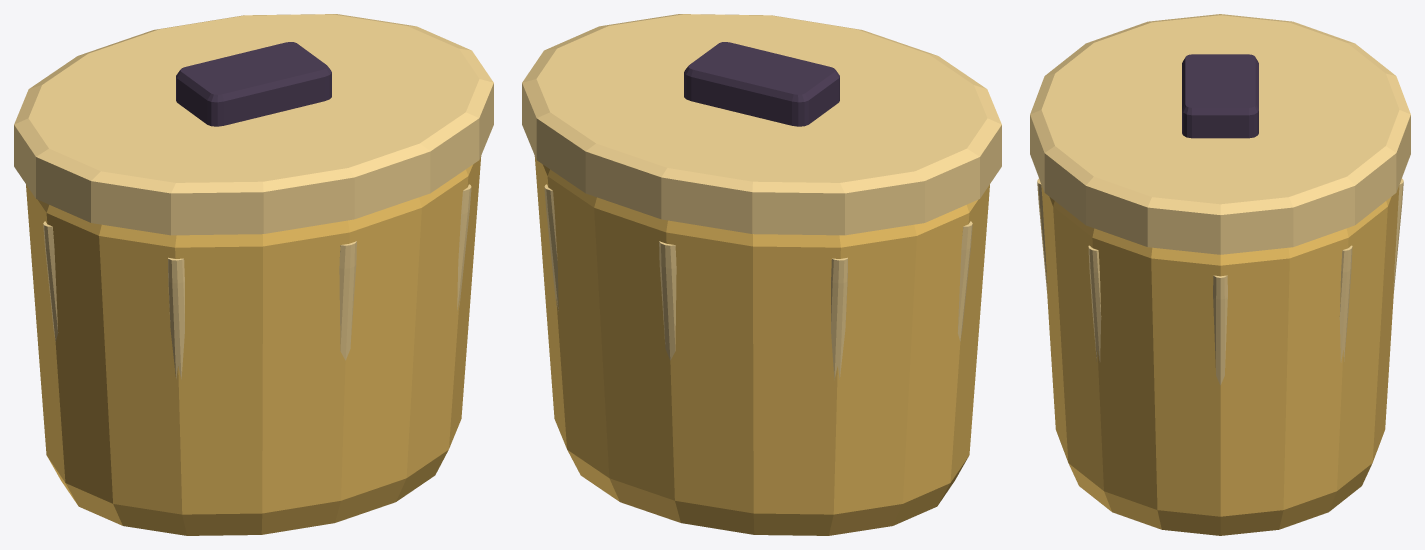
The model's file is return_bin.glb.
3 renders of one model, left to right at view 1: azimuth 30°, elevation 25°; view 2: azimuth 150°, elevation 25°; view 3: azimuth 270°, elevation 25°, orthographic. The views are drawn at different scales.
Visible parts, largest first — view 1: model; view 2: model; view 3: model.
Part boxes in pixels (box(x1,y1,x2,y2)): model: box(14, 14, 493, 535); model: box(522, 14, 1001, 535); model: box(1030, 14, 1410, 535).
Size of the model in its own units: 0.75 by 0.65 by 0.6.
